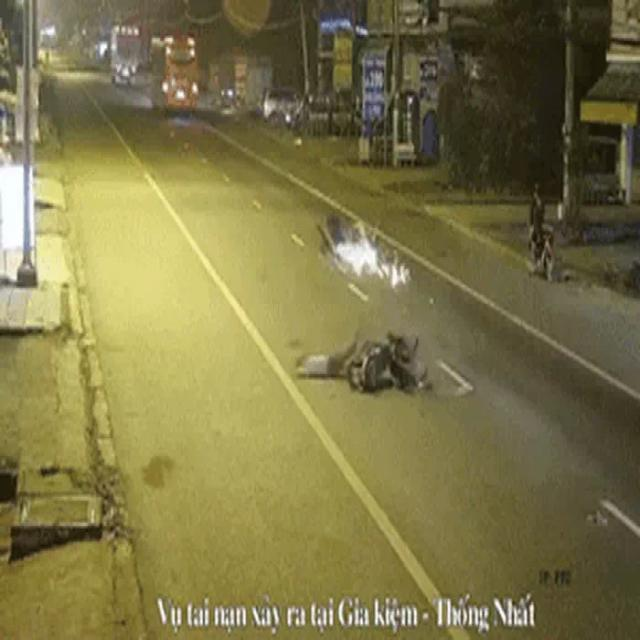multiple_accident: (279, 203, 440, 404)
